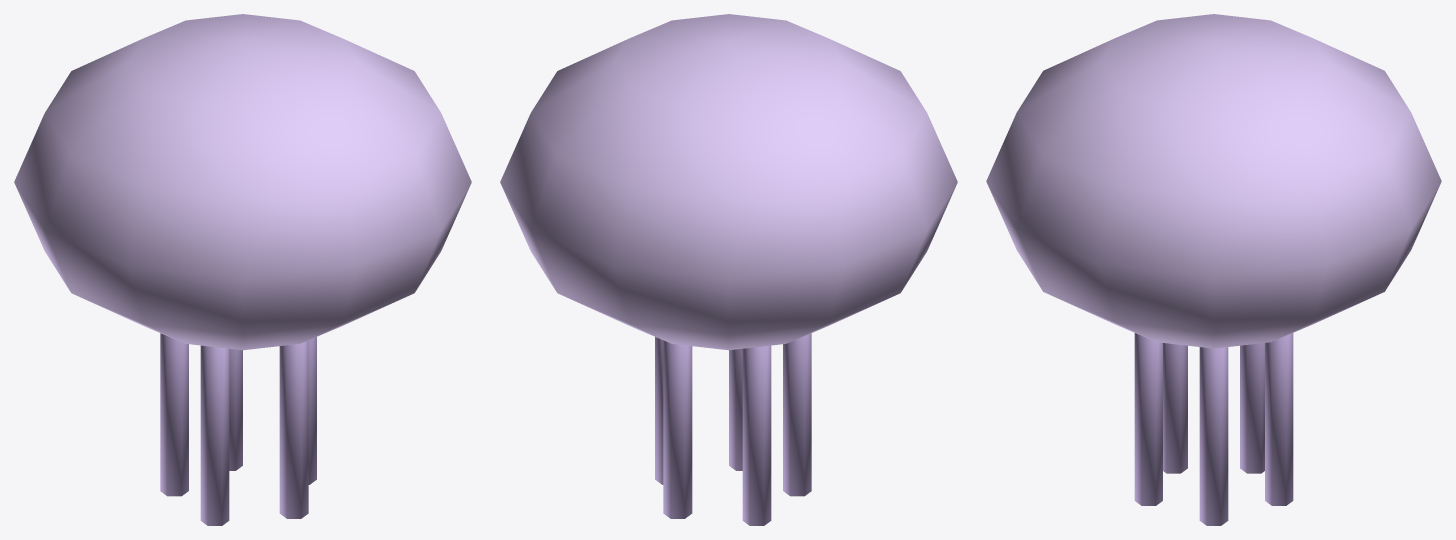
The model's file is jelly-BB1xbqTs.glb.
3 renders of one model, left to right at view 1: azimuth 30°, elevation 25°; view 2: azimuth 150°, elevation 25°; view 3: azimuth 270°, elevation 25°, orthographic.
Parts seen in each view (by area): view 1: bell, tent_3, tent_4, tent_2, tent_1, tent_0; view 2: bell, tent_2, tent_1, tent_3, tent_4, tent_0; view 3: bell, tent_0, tent_1, tent_4, tent_2, tent_3.
Part boxes in pixels (box(x1,y1,x2,y2)): bell: box(14, 14, 471, 350); tent_3: box(200, 345, 229, 525); tent_4: box(279, 340, 308, 518); tent_2: box(160, 333, 188, 496); tent_1: box(229, 349, 242, 470); tent_0: box(308, 337, 316, 484); bell: box(500, 14, 957, 350); tent_2: box(742, 345, 771, 525); tent_1: box(663, 340, 692, 518); tent_3: box(783, 333, 811, 496); tent_4: box(729, 349, 742, 470); tent_0: box(655, 337, 663, 484); bell: box(986, 14, 1441, 348); tent_0: box(1199, 347, 1228, 525); tent_1: box(1265, 333, 1293, 505); tent_4: box(1134, 333, 1162, 505); tent_2: box(1240, 343, 1264, 473); tent_3: box(1163, 343, 1187, 473).
Size of the model in its own units: 0.9215 by 1 by 0.9215.
